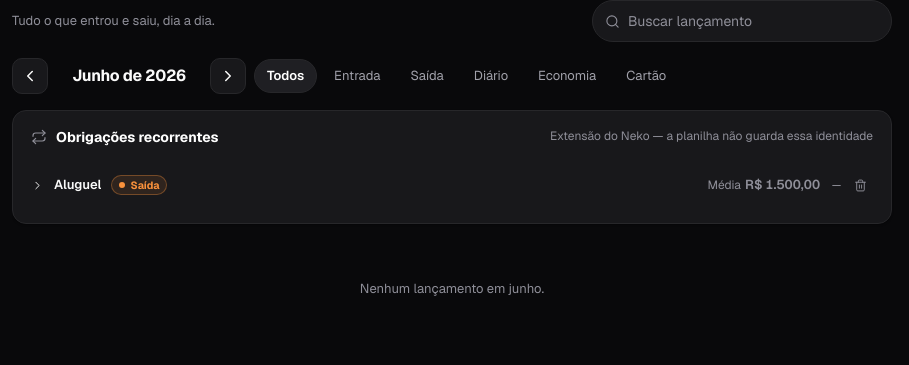
it: Obrigações recorrentes (plano 069) › a lista de obrigações expande o histórico mensal com média e total por mês
Expected: the text "Aluguel" is shown, 54,176 -> 102,195
Click the button named "Ver histórico de \"Aluguel\"" at point(78, 184), box 31,165 -> 843,205
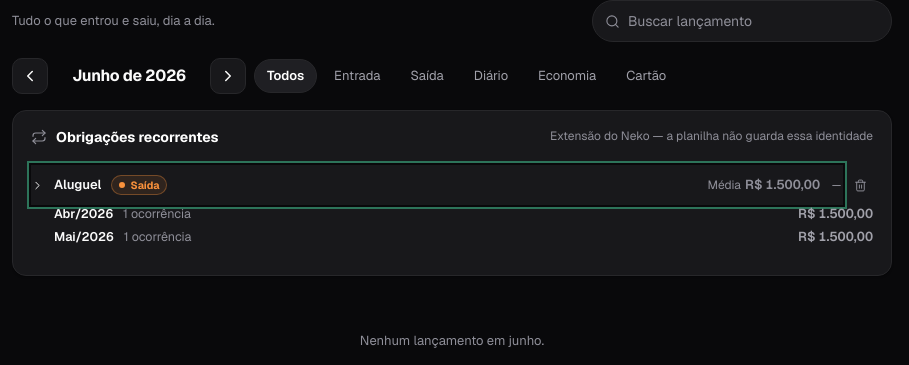
Result: the text "Abr/2026" is shown at 54,205 -> 113,223
Result: the text "Mai/2026" is shown at 54,228 -> 114,246
Result: the text "1 ocorrência" is shown 2 times at 123,205 -> 191,222; 124,228 -> 191,245
